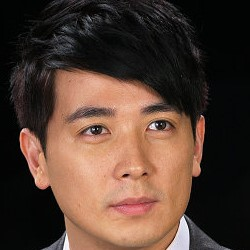unmask: (40, 80, 194, 245)
